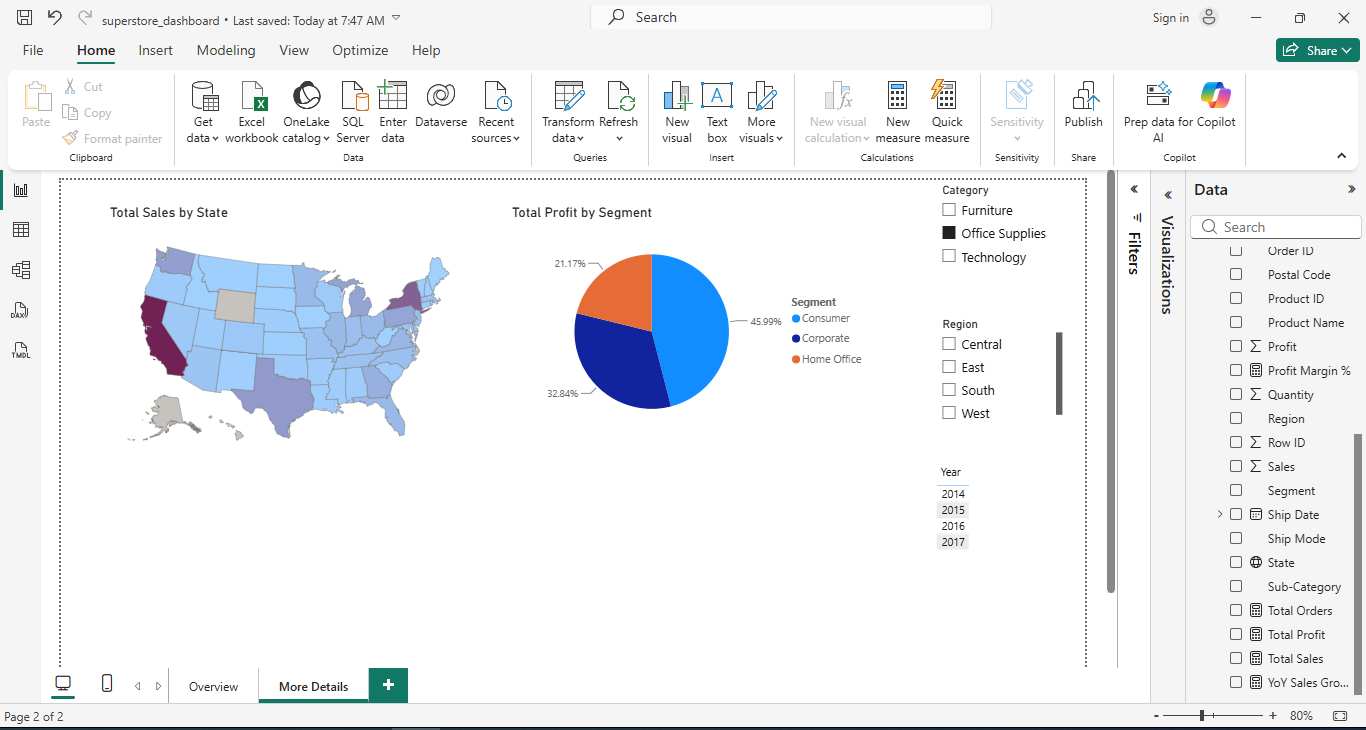

Layout of this report page (visuals, bound fields, positions):
{"tool":"powerbi","page":{"name":"More Details","canvas":[1280,720],"ordinal":1},"visuals":[{"type":"shapeMap","fields":{"Category":["superstore_raw.State"],"Value":["superstore_raw.Total Sales"]},"box":[56.2,30,456.2,330],"z":0},{"type":"slicer","fields":{"Values":["superstore_raw.Region"]},"box":[1088.8,167.5,167.5,142.5],"z":1000},{"type":"slicer","fields":{"Values":["superstore_raw.Category"]},"box":[1088.8,0,165,142.5],"z":2000},{"type":"tableEx","fields":{"Values":["DateTable.Year"]},"box":[1088.8,350,156.2,121.2],"z":3000},{"type":"pieChart","fields":{"Category":["superstore_raw.Segment"],"Y":["superstore_raw.Total Profit"]},"box":[558.8,30,456.2,300],"z":3001}]}

Visuals, with their boxes on the page's 1280x720 design canvas (x1, y1, x2, y2). These are canvas units, not pixel positions in the 1366x730 screenshot, which may show the page scaled, cropped or inside an application window:
shapeMap - superstore_raw.State x superstore_raw.Total Sales: [left=56, top=30, right=512, bottom=360]
slicer - superstore_raw.Region: [left=1089, top=168, right=1256, bottom=310]
slicer - superstore_raw.Category: [left=1089, top=0, right=1254, bottom=142]
tableEx - DateTable.Year: [left=1089, top=350, right=1245, bottom=471]
pieChart - superstore_raw.Segment x superstore_raw.Total Profit: [left=559, top=30, right=1015, bottom=330]
